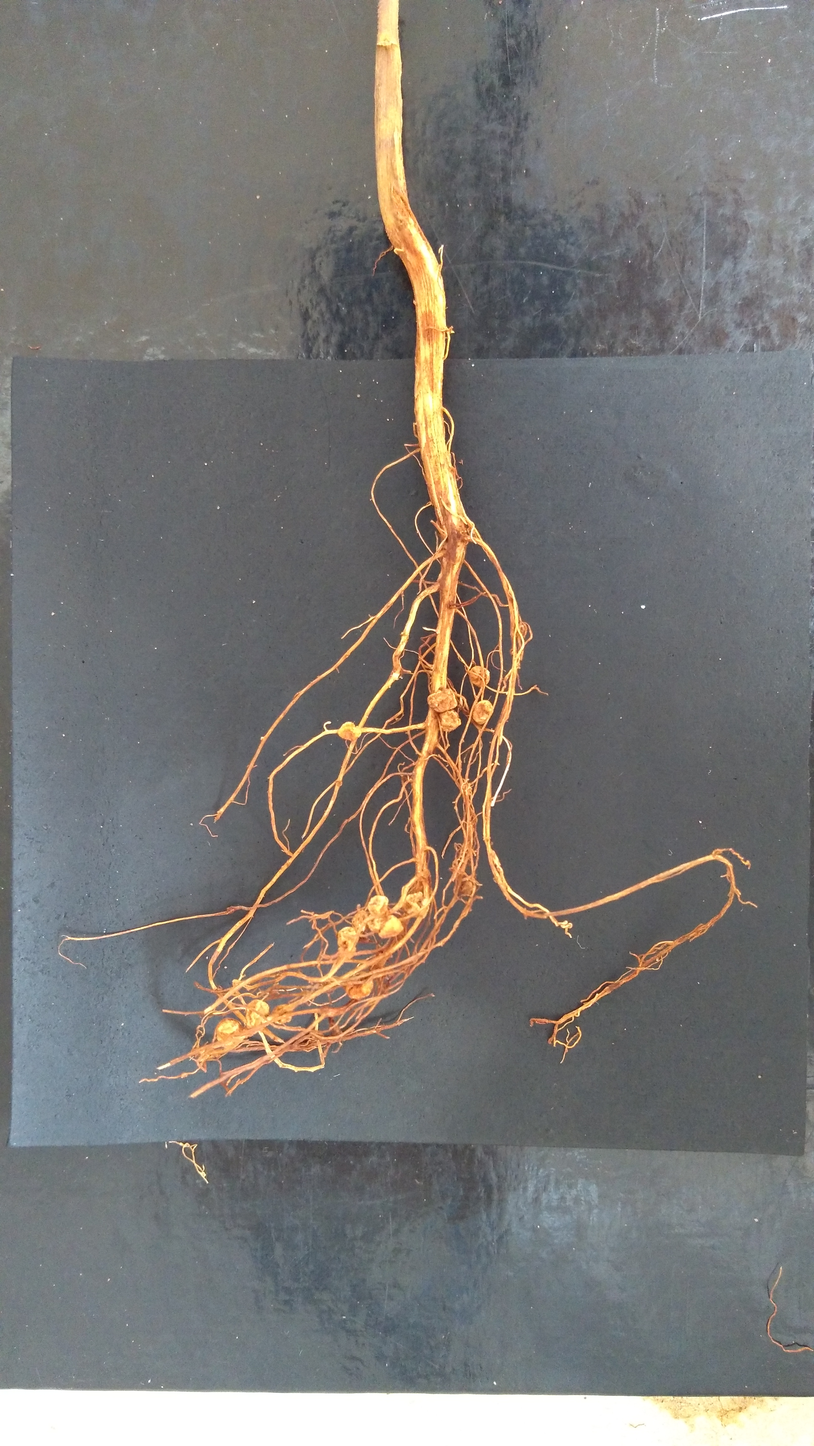nodule: (344, 967, 375, 1003), (366, 913, 405, 940), (213, 1016, 243, 1048), (426, 686, 459, 714), (403, 891, 432, 921), (336, 720, 363, 744), (471, 698, 494, 726), (438, 709, 463, 734), (467, 664, 491, 688), (366, 895, 390, 918), (244, 998, 270, 1018), (336, 925, 356, 951), (272, 1002, 294, 1025), (459, 879, 476, 899)
